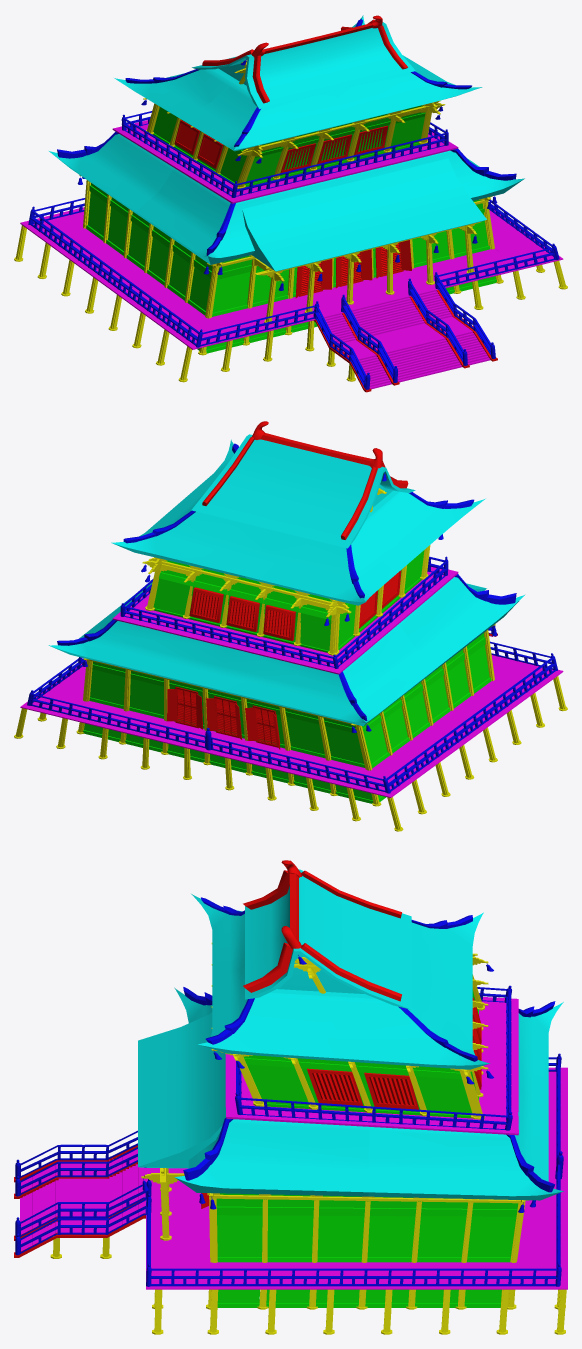
File: deformed_temple 1.fbx
3 views of the same model, one above another, from view 1: azimuth 30°, elevation 25°; view 2: azimuth 150°, elevation 25°; view 3: azimuth 270°, elevation 25° (orthographic). The views are drawn at different scales.
Parts seen in each view (by area): view 1: lp_temple; view 2: lp_temple; view 3: lp_temple.
Boxes of the visible parts, x1,y1,x2,y2 form: lp_temple: [14, 15, 567, 392]; lp_temple: [14, 421, 567, 831]; lp_temple: [14, 860, 567, 1334].
Bounding box in the file's own units: 65.02 × 42.53 × 65.8.
